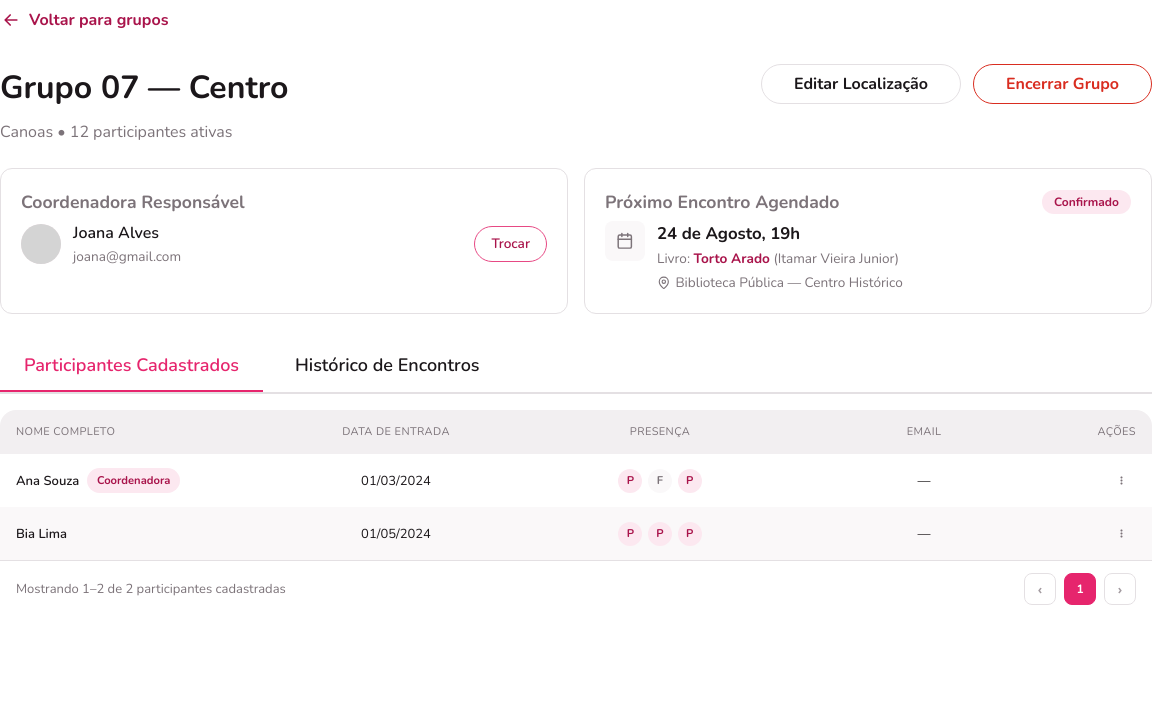
Scenario: GroupDetails › mantém o modal aberto e avisa quando o status não muda
What coordinates should you click on to do the following:
click the button "Encerrar Grupo"
I would click on:
 (1063, 84)
Its box is x1=973 y1=64 x2=1151 y2=104.
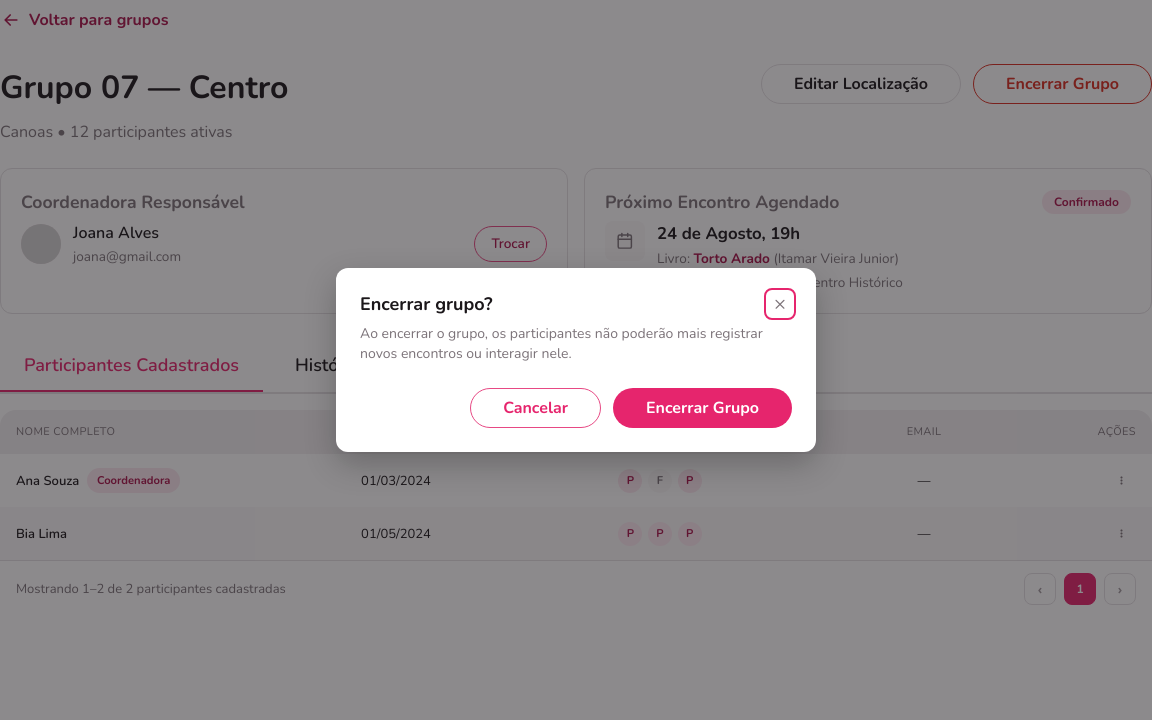
What coordinates should you click on to do the following:
click the button "Encerrar Grupo"
I would click on:
 (703, 408)
Its box is x1=613 y1=388 x2=792 y2=428.
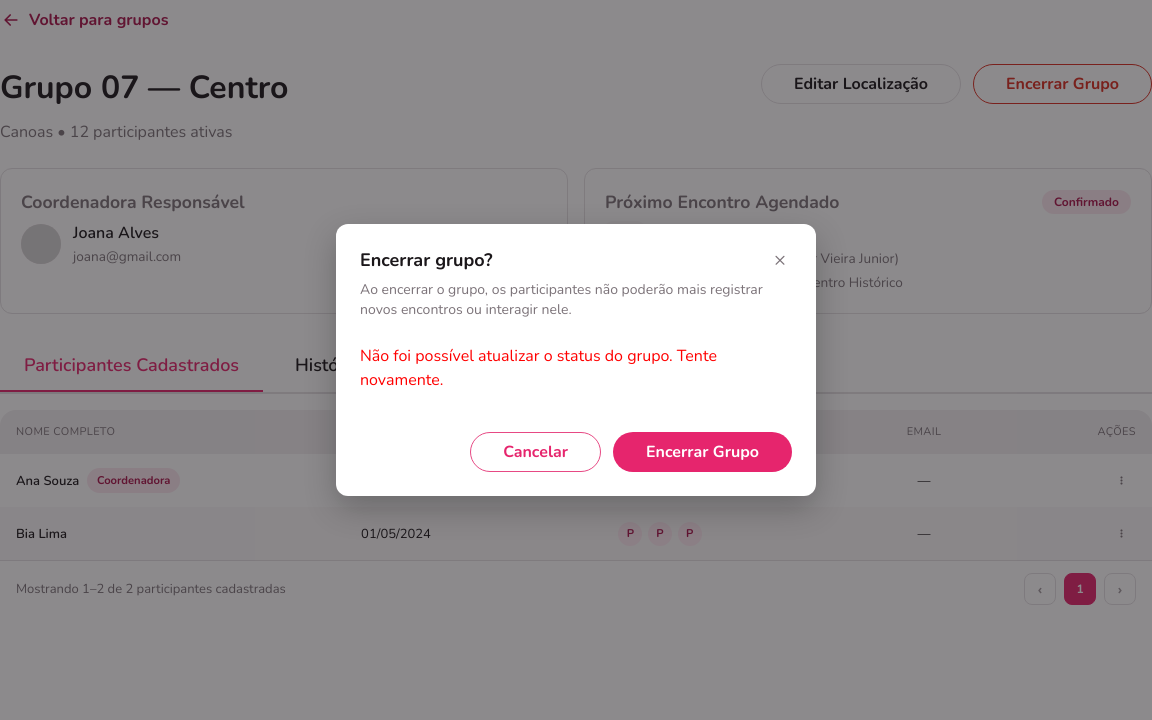
Expected: the dialog "Encerrar grupo?" is shown, x1=336 y1=224 x2=816 y2=496
Expected: the button "Encerrar Grupo" is enabled, x1=613 y1=432 x2=792 y2=472
Expected: the text "Não foi possível atualizar o status do grupo. Tente novamente." is shown, x1=360 y1=345 x2=717 y2=391
